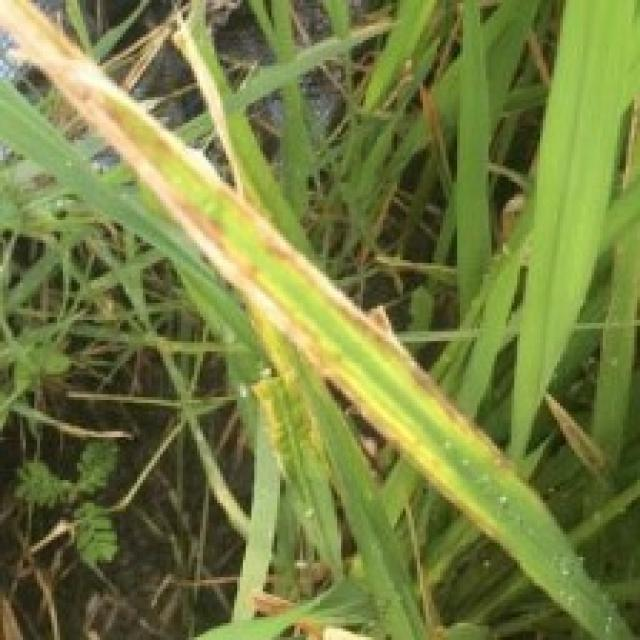Rice___Bacterial_Leaf_Blight: (0, 0, 637, 637)
